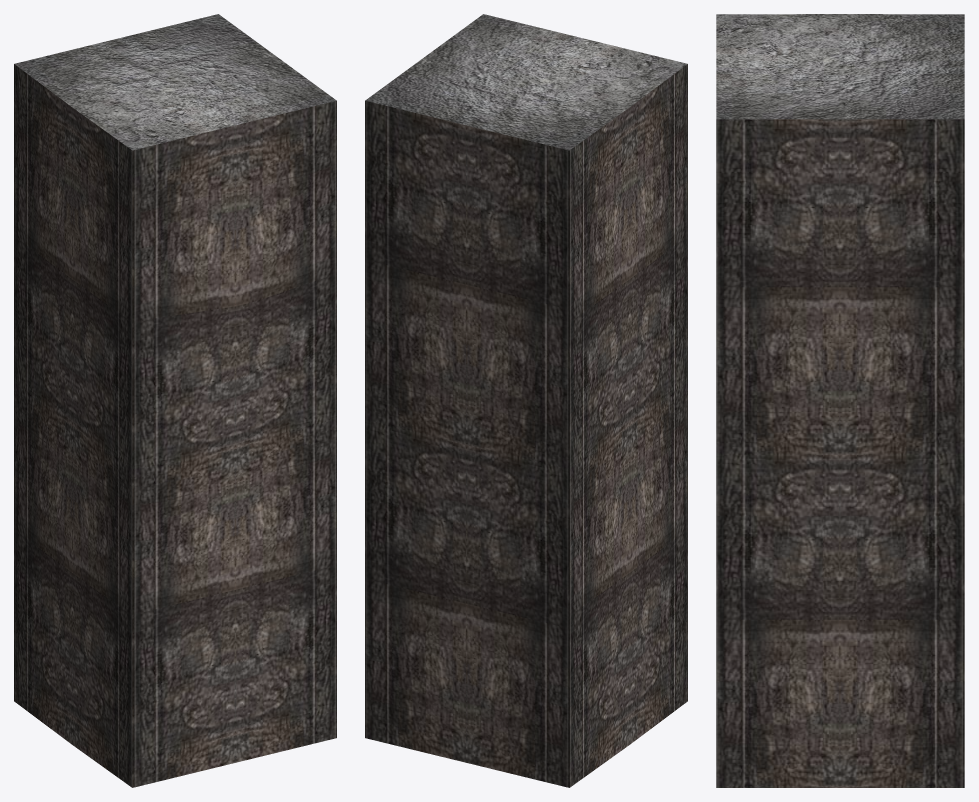
3 renders of one model, left to right at view 1: azimuth 30°, elevation 25°; view 2: azimuth 150°, elevation 25°; view 3: azimuth 270°, elevation 25°, orthographic. The views are drawn at different scales.
Visible parts, largest first — view 1: Object11; view 2: Object11; view 3: Object11.
Boxes of the visible parts, x1,y1,x2,y2 form: Object11: [14, 14, 336, 787]; Object11: [365, 14, 687, 787]; Object11: [716, 14, 964, 787].
Bounding box in the file's own units: 50.59 × 150 × 50.49.
